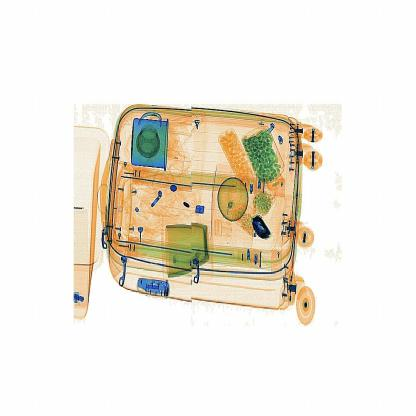scissors: (245, 207, 279, 251)
